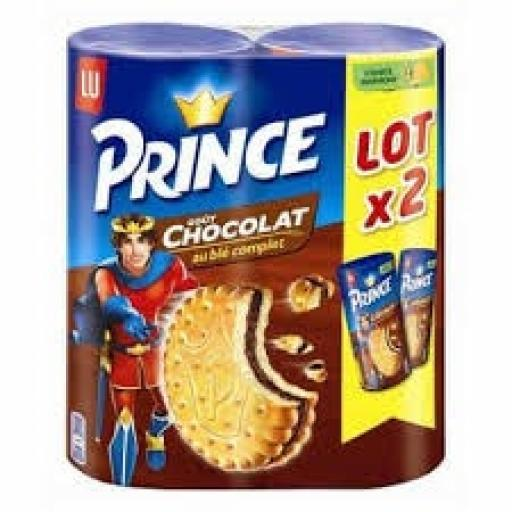prince: (58, 26, 256, 498)
